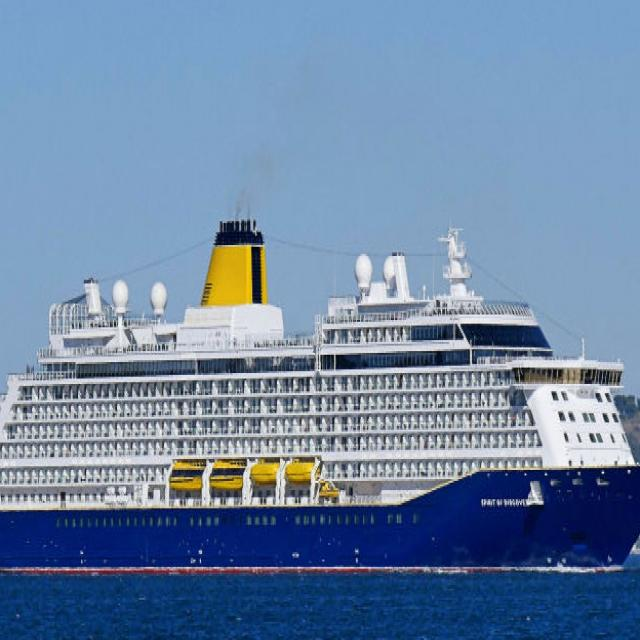cruises: (1, 202, 640, 586)
